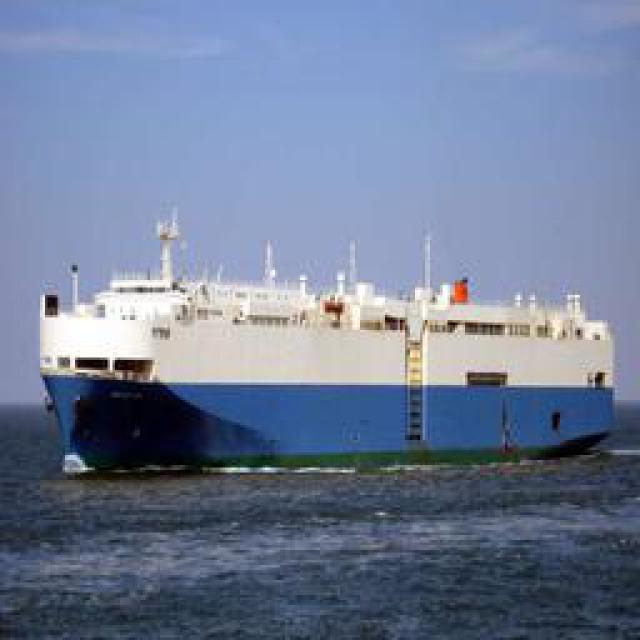Ship: (29, 209, 619, 464)
